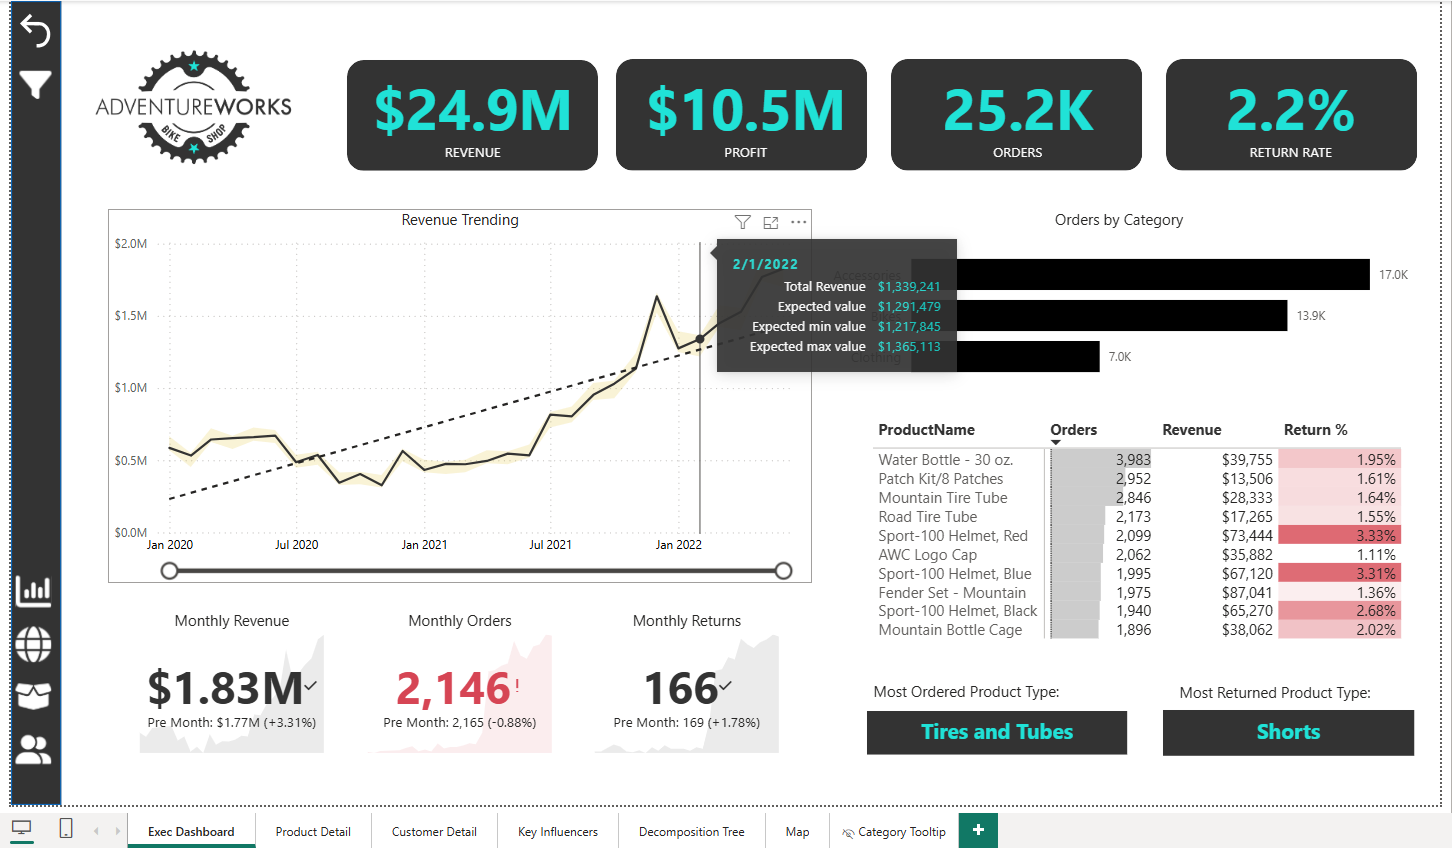

The dashboard page shown, as its layout file describes it:
{"tool":"powerbi","page":{"name":"Exec Dashboard","canvas":[1280,720],"ordinal":0},"visuals":[{"type":"card","fields":{"Values":["Measure Table.Total Revenue"]},"box":[285.2,27.2,256,150.2],"z":0,"group":"g2"},{"type":"image","title":"AW Logo","box":[56,29,215,133],"z":0},{"type":"group","id":"g1","title":"KPI Background","box":[300.3,52.4,957.5,100.8],"z":0,"group":"g3"},{"type":"shape","box":[300.3,53.6,224.8,99.4],"z":0,"group":"g1"},{"type":"actionButton","box":[0,508.7,44.8,40.3],"z":0,"group":"g4"},{"type":"group","id":"g2","title":"KPI Values","box":[285.2,27.2,988.7,150.2],"z":1000,"group":"g3"},{"type":"card","fields":{"Values":["Measure Table.Return Rate"]},"box":[1017.9,27.2,256,150.2],"z":1000,"group":"g2"},{"type":"card","fields":{"Values":["Measure Table.Total Revenue"]},"box":[285.2,29.2,256,150.2],"z":1000},{"type":"shape","box":[541.6,52.4,225,100],"z":1000,"group":"g1"},{"type":"actionButton","box":[0,603,44.8,40.3],"z":1000,"group":"g4"},{"type":"shape","title":"Left Nav Background","box":[0,0,45,720],"z":2000},{"type":"card","fields":{"Values":["Measure Table.Total Profit"]},"box":[529.4,27.2,256,150.2],"z":2000,"group":"g2"},{"type":"shape","box":[787.6,52.4,225,100],"z":2000,"group":"g1"},{"type":"actionButton","box":[0,555.9,44.8,40.3],"z":2000,"group":"g4"},{"type":"group","id":"g3","title":"KPIs","box":[285.2,27.2,988.7,150.2],"z":3000},{"type":"card","fields":{"Values":["Measure Table.Total Orders"]},"box":[773.7,27.2,256,150.2],"z":3000,"group":"g2"},{"type":"shape","box":[1033.5,52.4,225,100],"z":3000,"group":"g1"},{"type":"actionButton","box":[0,650.2,44.8,40.3],"z":3000,"group":"g4"},{"type":"lineChart","title":"Revenue Trending","fields":{"Category":["Calendar Lookup.Start of Month"],"Y":["Measure Table.Total Revenue"]},"box":[86.7,186.5,630.9,334.6],"z":4000},{"type":"kpi","title":"Monthly Revenue","fields":{"Goal":["Measure Table.Previous Month Revenue"],"Indicator":["Measure Table.Total Revenue"],"TrendLine":["Calendar Lookup.Start of Month"]},"box":[109.9,545.3,175.4,133],"z":5000},{"type":"kpi","title":"Monthly Orders","fields":{"Goal":["Measure Table.Previous Month Orders"],"Indicator":["Measure Table.Total Orders"],"TrendLine":["Calendar Lookup.Start of Month"]},"box":[314,545.3,175.4,133],"z":6000},{"type":"kpi","title":"Monthly Returns","fields":{"Goal":["Measure Table.Previous Month Returns"],"Indicator":["Measure Table.Total Returns"],"TrendLine":["Calendar Lookup.Start of Month"]},"box":[518,545.3,175.4,133],"z":7000},{"type":"clusteredBarChart","title":"Orders by Category","fields":{"Category":["Product Categories Lookup.CategoryName"],"Y":["Measure Table.Total Orders"]},"box":[726.7,186.5,532.2,167.3],"z":8000},{"type":"pivotTable","fields":{"Rows":["Product Lookup.ProductName"],"Values":["Measure Table.Total Orders","Measure Table.Total Revenue","Measure Table.Return Rate"]},"box":[766.6,369.9,500.6,227.5],"z":9000},{"type":"card","fields":{"Values":["Min(Product Subcategories Lookup.SubcategoryName)"]},"box":[766.6,635.8,232.8,39.4],"z":10000},{"type":"textbox","box":[767.5,604.5,189.9,31.3],"z":11000},{"type":"card","fields":{"Values":["Min(Product Subcategories Lookup.SubcategoryName)"]},"box":[1031.6,634.9,224.8,41.2],"z":12000},{"type":"textbox","box":[1041.5,605.4,189.9,31.3],"z":13000},{"type":"actionButton","box":[1.8,6.3,40.3,40.3],"z":14000},{"type":"group","id":"g4","title":"Navigation Buttons","box":[0,508.7,44.8,181.8],"z":15000},{"type":"actionButton","box":[3.6,53.7,36.7,43],"z":16000}]}

Visuals, with their boxes on the page's 1280x720 design canvas (x1, y1, x2, y2). These are canvas units, not pixel positions in the 1452x849 screenshot, which may show the page scaled, cropped or inside an application window:
card - Measure Table.Total Revenue: 285:27:541:177
"AW Logo" image: 56:29:271:162
"KPI Background" group: 300:52:1258:153
shape: 300:54:525:153
actionButton: 0:509:45:549
"KPI Values" group: 285:27:1274:177
card - Measure Table.Return Rate: 1018:27:1274:177
card - Measure Table.Total Revenue: 285:29:541:179
shape: 542:52:767:152
actionButton: 0:603:45:643
"Left Nav Background" shape: 0:0:45:720
card - Measure Table.Total Profit: 529:27:785:177
shape: 788:52:1013:152
actionButton: 0:556:45:596
"KPIs" group: 285:27:1274:177
card - Measure Table.Total Orders: 774:27:1030:177
shape: 1034:52:1258:152
actionButton: 0:650:45:690
"Revenue Trending" lineChart: 87:186:718:521
"Monthly Revenue" kpi: 110:545:285:678
"Monthly Orders" kpi: 314:545:489:678
"Monthly Returns" kpi: 518:545:693:678
"Orders by Category" clusteredBarChart: 727:186:1259:354
pivotTable - Product Lookup.ProductName x Measure Table.Total Orders: 767:370:1267:597
card - Min(Product Subcategories Lookup.SubcategoryName): 767:636:999:675
textbox: 768:604:957:636
card - Min(Product Subcategories Lookup.SubcategoryName): 1032:635:1256:676
textbox: 1042:605:1231:637
actionButton: 2:6:42:47
"Navigation Buttons" group: 0:509:45:690
actionButton: 4:54:40:97
